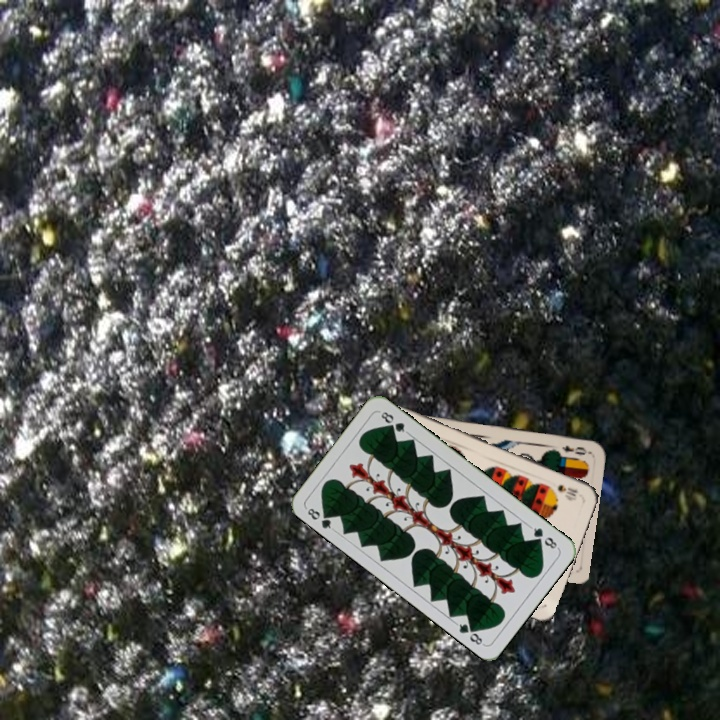EO: (558, 441, 592, 457)
G8: (303, 504, 337, 534), (526, 523, 561, 552)
S10: (553, 480, 580, 499)
